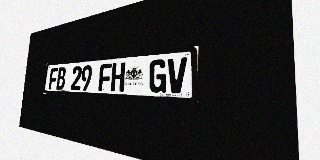2: (71, 66, 82, 90)
9: (80, 65, 92, 91)
B: (56, 67, 66, 90)
F: (98, 63, 112, 91), (48, 68, 58, 90)
G: (148, 59, 167, 93)
H: (111, 62, 125, 92)
V: (167, 57, 187, 94)
